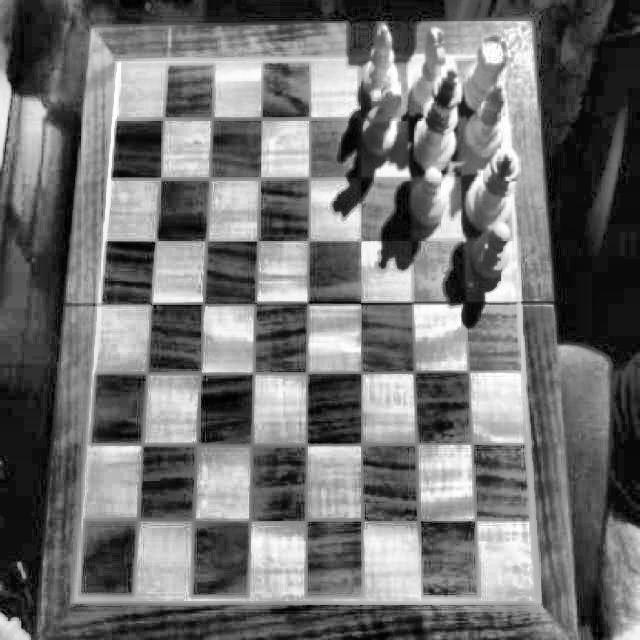white-bishop: (466, 86, 512, 164), (361, 26, 404, 100)
white-king: (416, 60, 466, 172)
white-knight: (361, 79, 407, 160), (414, 28, 450, 115)
white-pawn: (472, 222, 516, 286), (411, 164, 451, 228)
white-queen: (463, 146, 523, 236)
white-rook: (466, 37, 510, 114)
